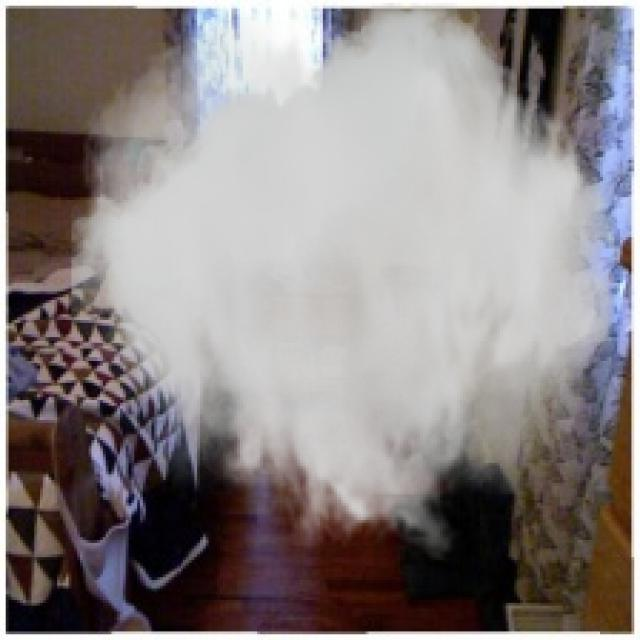smoke: (71, 3, 623, 563)
